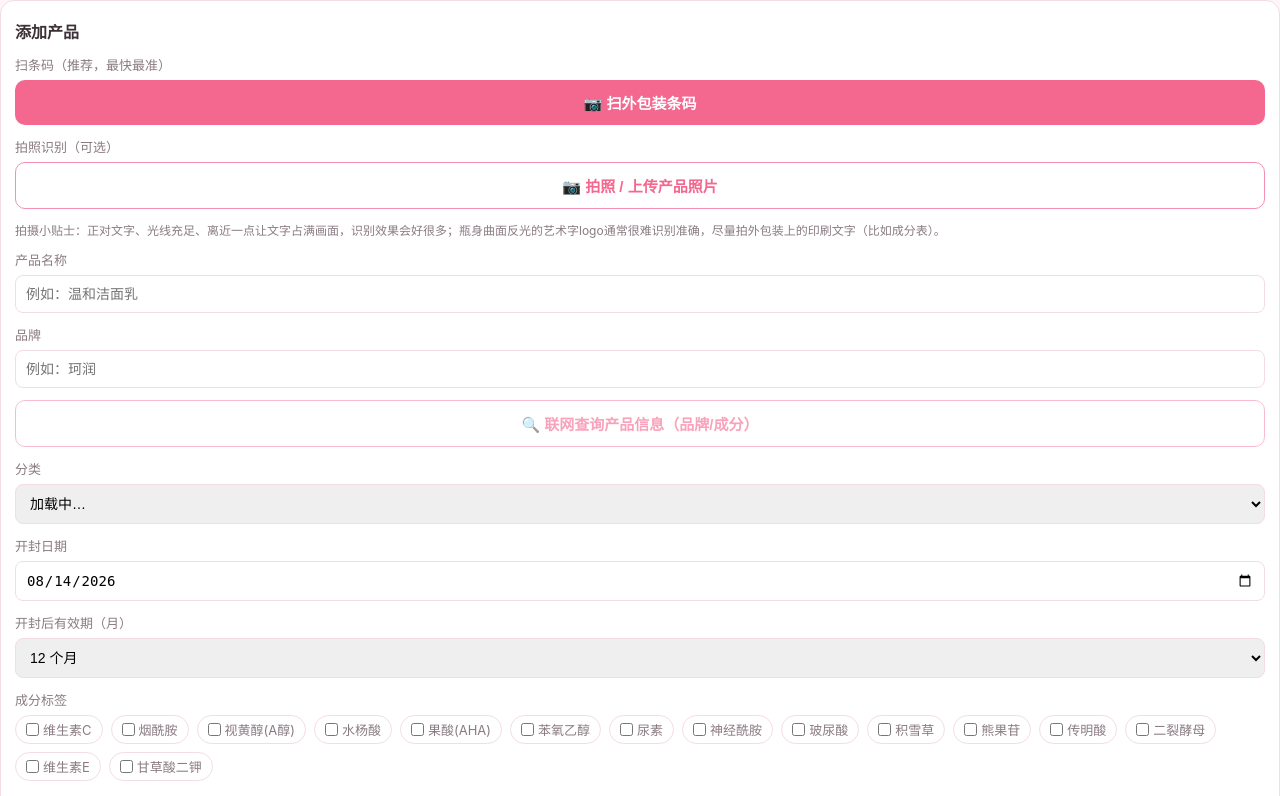
AddProduct — barcode scan › shows a not-found message when the barcode has no match
Click the button "📷 扫外包装条码". click: (640, 102)
box: [15,80,1265,125]
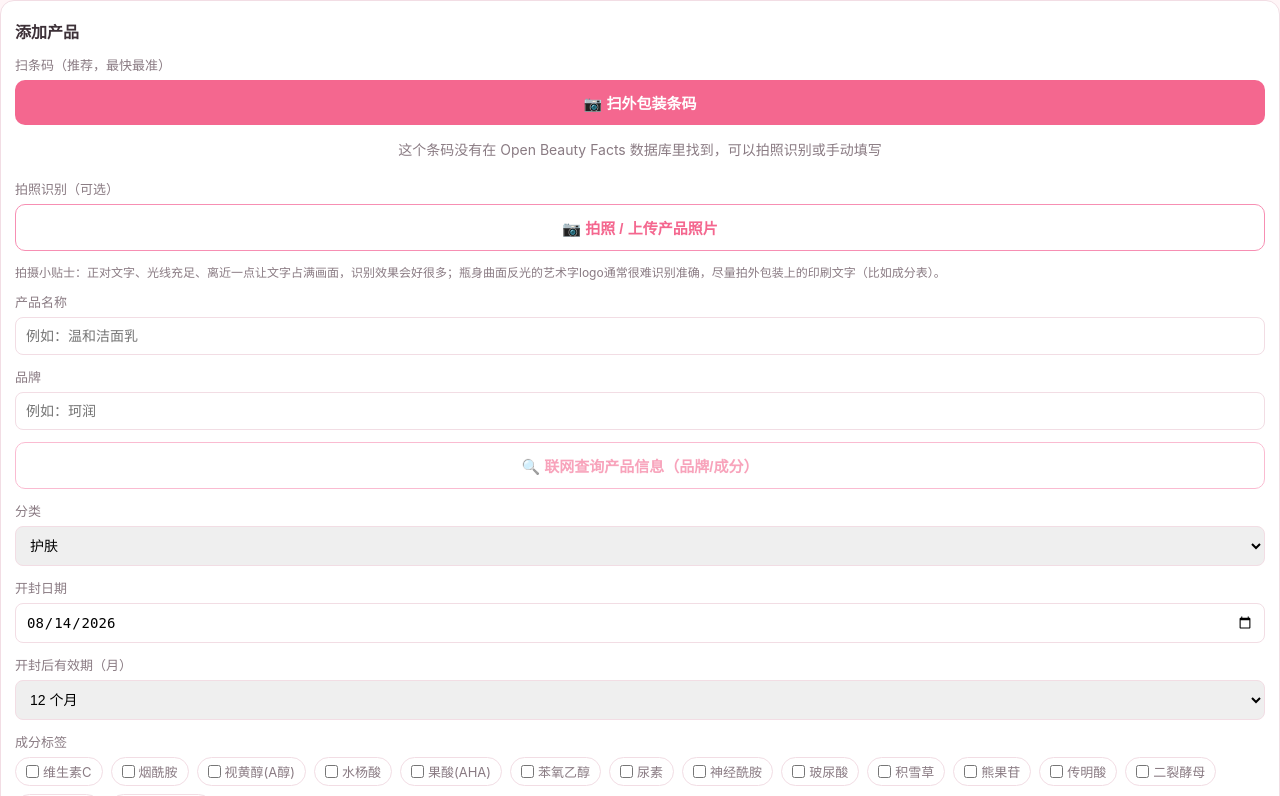
Result: the text "这个条码没有在 Open Beauty Facts 数据库里找到，可以拍照识别或手动填写" is shown at [398,141,882,158]
